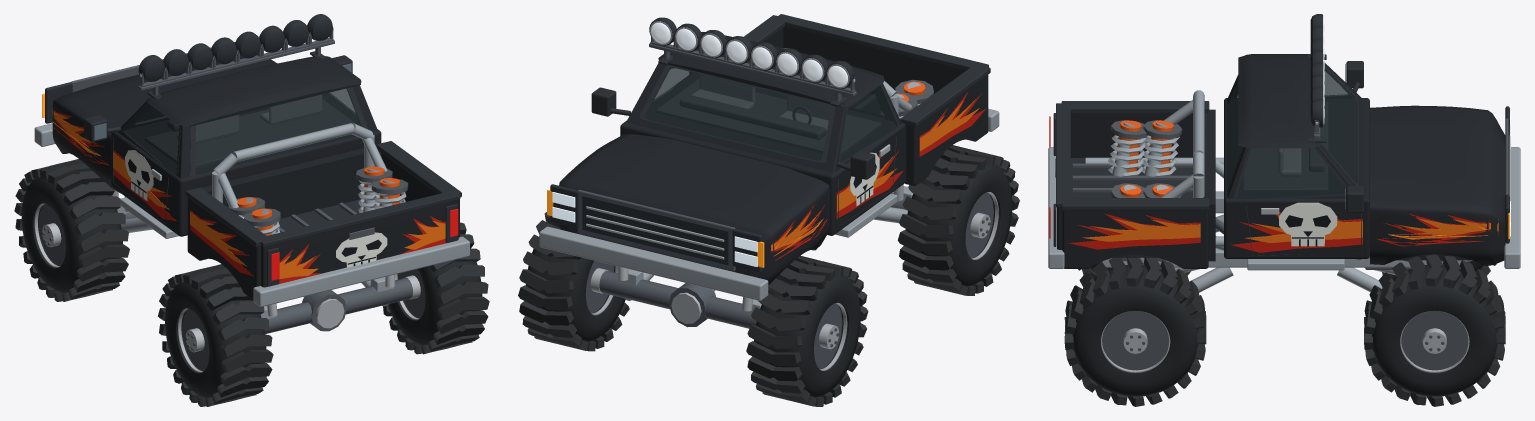
Rendered from monster-truck.glb.
3 renders of one model, left to right at view 1: azimuth 30°, elevation 25°; view 2: azimuth 150°, elevation 25°; view 3: azimuth 270°, elevation 25°, orthographic. The views are drawn at different scales.
Visible parts, largest first — view 1: Body geometry, Running wheel geometry, Running wheel geometry.002, Running wheel geometry.003, Moving live axle geometry.001; view 2: Body geometry, Running wheel geometry, Running wheel geometry.002, Running wheel geometry.001, Moving live axle geometry; view 3: Body geometry, Running wheel geometry.001, Running wheel geometry.003.
Part boxes in pixels (<box>): Body geometry: <box>34,14,469,306</box>; Running wheel geometry: <box>14,159,129,301</box>; Running wheel geometry.002: <box>158,264,273,406</box>; Running wheel geometry.003: <box>383,222,489,354</box>; Moving live axle geometry.001: <box>260,274,412,333</box>; Body geometry: <box>539,14,999,300</box>; Running wheel geometry: <box>746,255,868,406</box>; Running wheel geometry.002: <box>897,145,1019,295</box>; Running wheel geometry.001: <box>518,212,629,351</box>; Moving live axle geometry: <box>599,266,761,328</box>; Body geometry: <box>1048,14,1520,292</box>; Running wheel geometry.001: <box>1364,254,1505,406</box>; Running wheel geometry.003: <box>1064,257,1206,406</box>.
Size of the model in its own units: 2.67 by 2.58 by 3.92.
